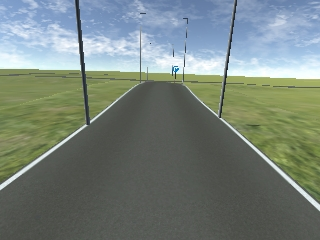right: (171, 66, 179, 73)
